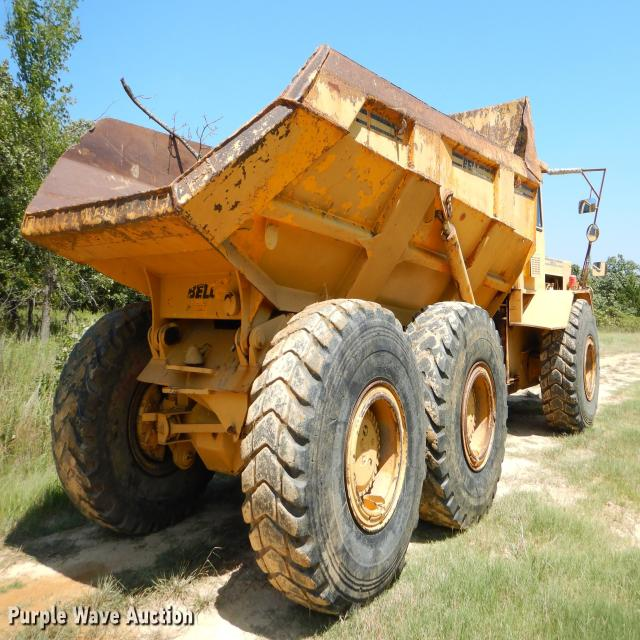dump_truck: (19, 39, 621, 606)
